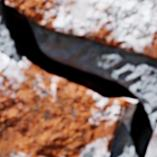brick: (0, 53, 136, 156), (7, 0, 156, 60), (146, 128, 156, 156)
crack: (2, 0, 154, 156), (49, 8, 70, 15)
